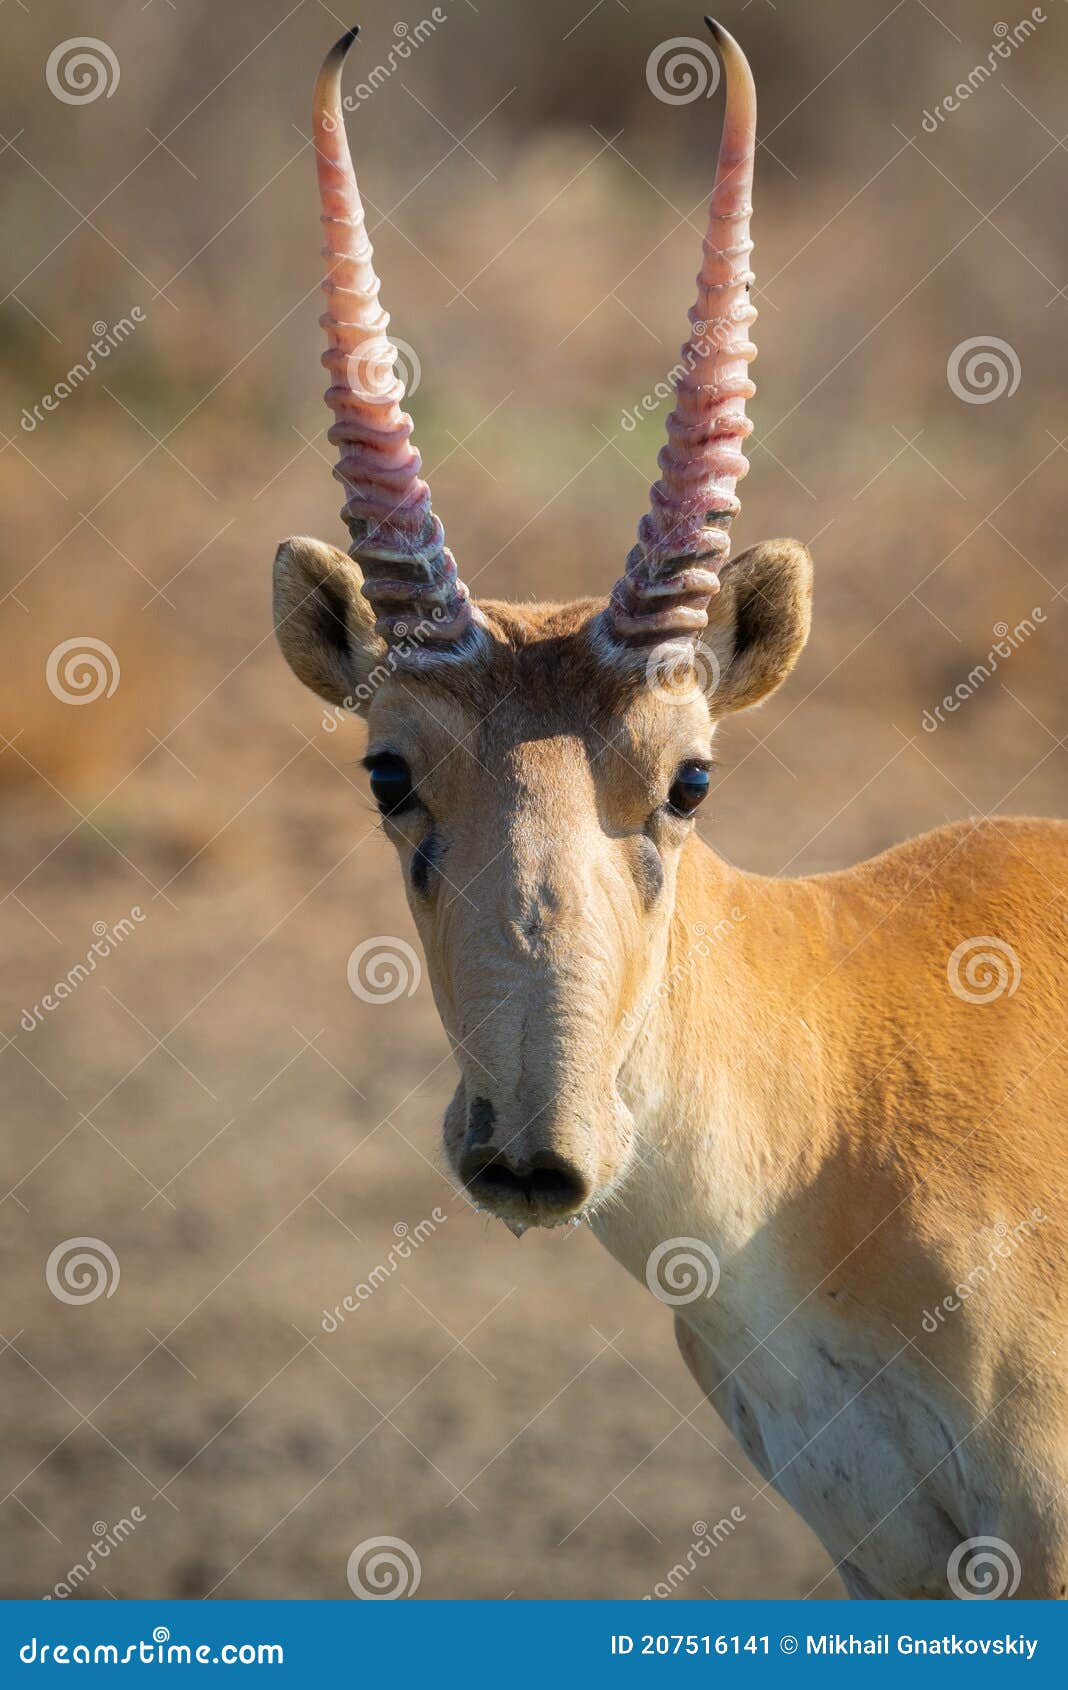saiga: (269, 20, 1068, 1585)
